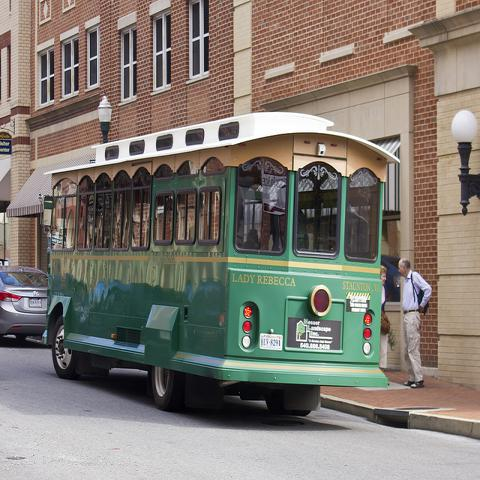bus: (36, 112, 400, 405)
car: (0, 264, 49, 344)
